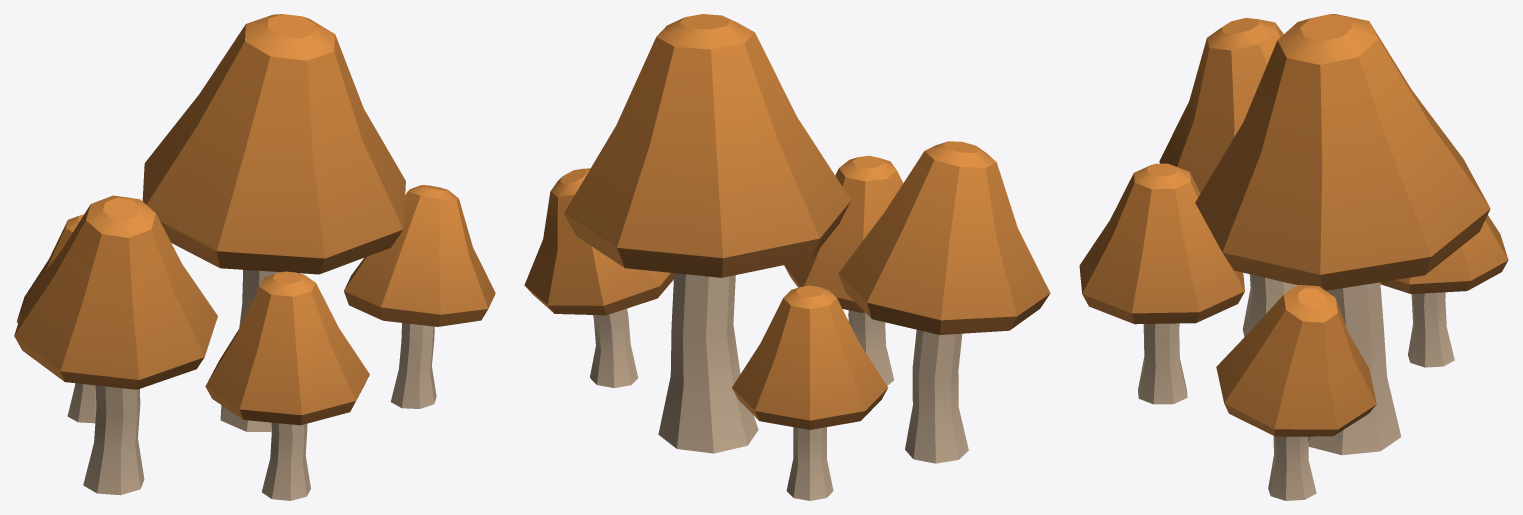
File: Spring_Mushroom_03.glb
3 views of the same model, side by side, from view 1: azimuth 30°, elevation 25°; view 2: azimuth 150°, elevation 25°; view 3: azimuth 270°, elevation 25° (orthographic). The views are drawn at different scales.
Parts seen in each view (by area): view 1: Spring_Mushroom_03_LOD0; view 2: Spring_Mushroom_03_LOD0; view 3: Spring_Mushroom_03_LOD0.
Part boxes in pixels (x1,y1,x2,y2): Spring_Mushroom_03_LOD0: (14, 14, 495, 500); Spring_Mushroom_03_LOD0: (524, 14, 1050, 500); Spring_Mushroom_03_LOD0: (1079, 14, 1508, 500).
Size of what is drawn, in the model's own units: 0.3749 by 0.2998 by 0.2799.
1 material, 1 textured.
